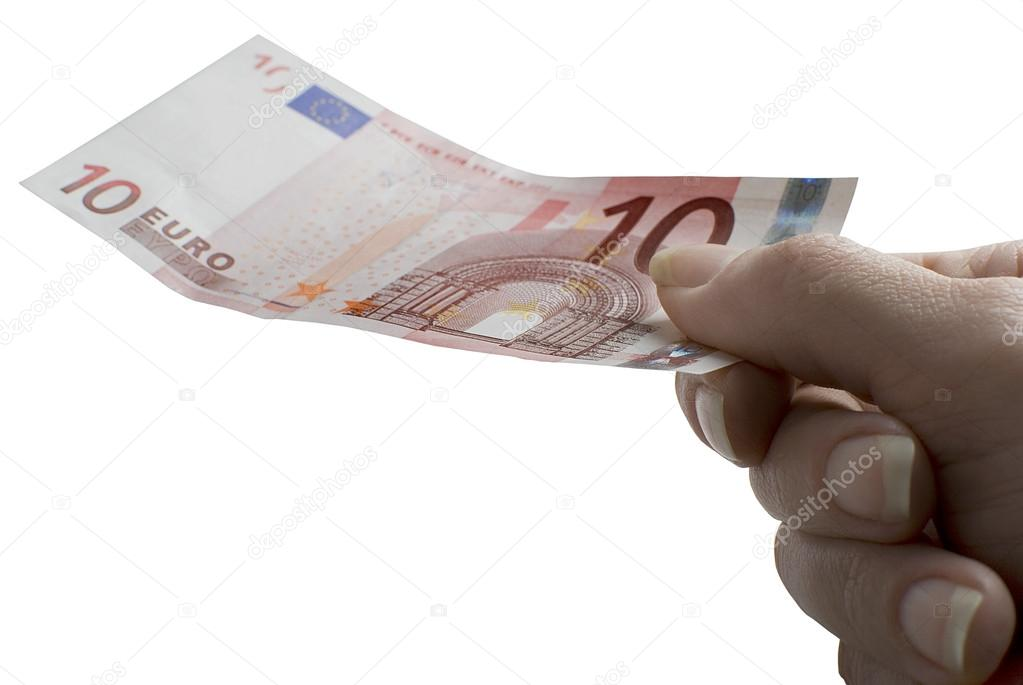billete: (17, 33, 861, 379)
